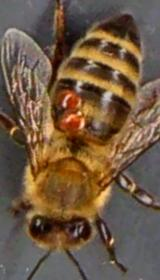varroa_mite: (50, 86, 91, 115), (51, 110, 92, 136)
